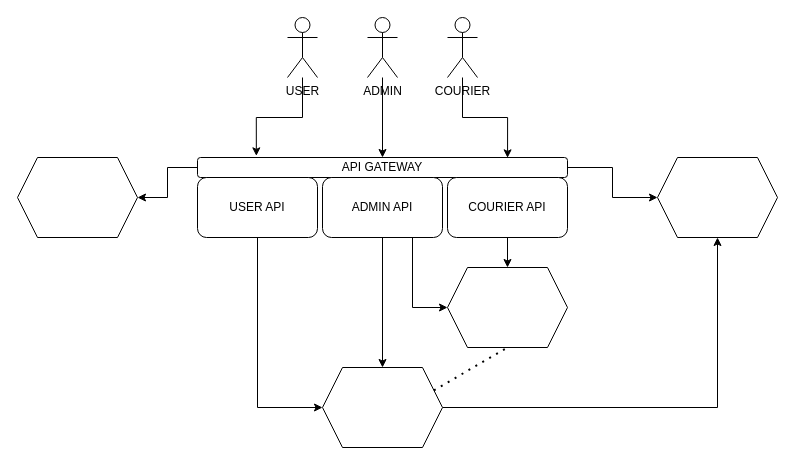
This 795x465 diagram has some shape labels left out. The shapes that lost their labels are listed below. From the top down, each one's centre as x and y in pixels, then its label:
the point at 77,197: USER & AUTH
the point at 717,197: DICTIONARY
the point at 507,307: TRACKING
the point at 382,407: ORDER
